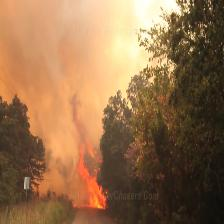fire: (50, 122, 123, 222)
